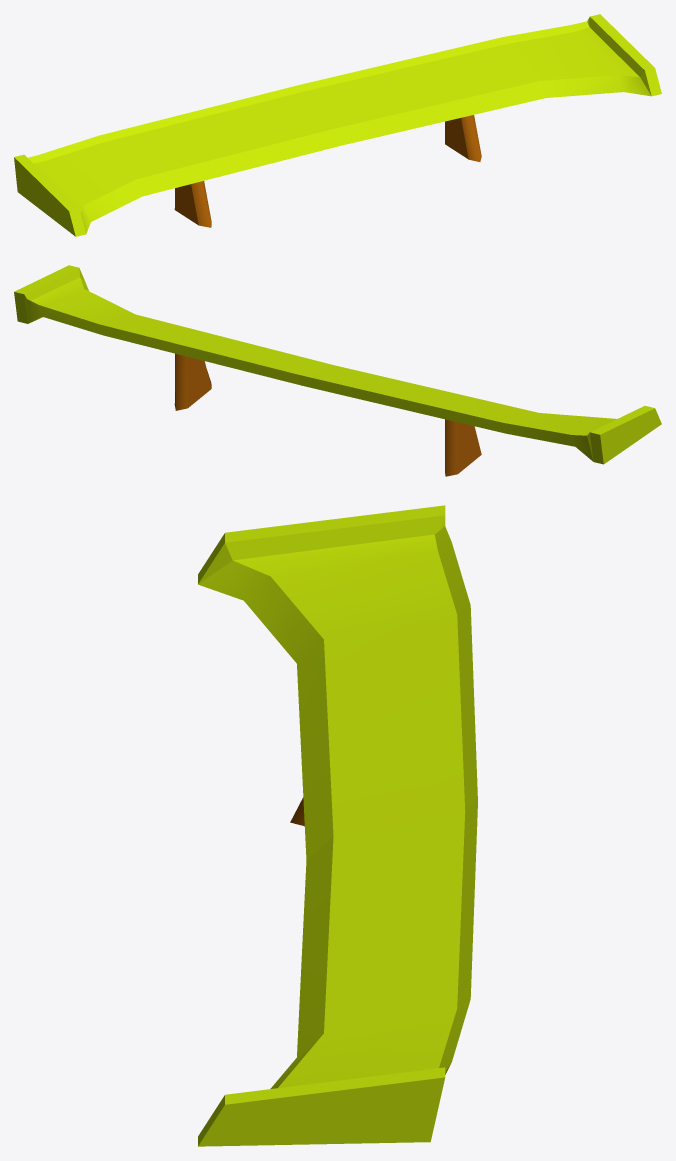
File: Spoiler10_ColorCoded.fbx
3 views of the same model, one above another, from view 1: azimuth 30°, elevation 25°; view 2: azimuth 150°, elevation 25°; view 3: azimuth 270°, elevation 25° (orthographic). The views are drawn at different scales.
Visible parts, largest first — view 1: Spoiler10; view 2: Spoiler10; view 3: Spoiler10.
Part boxes in pixels (x1=…): Spoiler10: x1=14, y1=14, x2=661, y2=236; Spoiler10: x1=14, y1=265, x2=661, y2=476; Spoiler10: x1=198, y1=505, x2=477, y2=1146.
Bounding box in the file's own units: 44.09 × 9.12 × 5.98.
